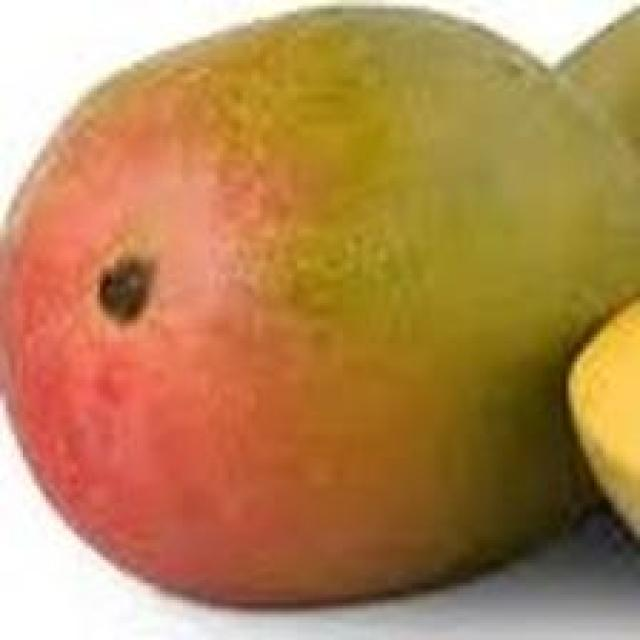Good_Mango: (0, 6, 640, 611)
